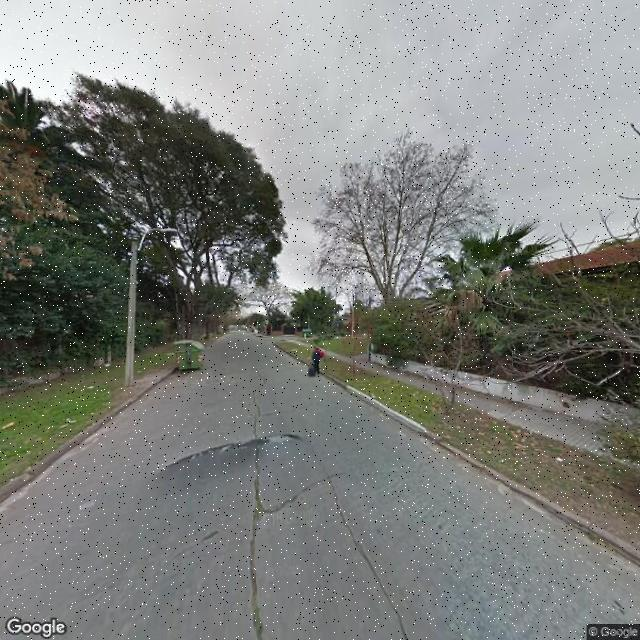garbage container: (160, 332, 211, 382)
